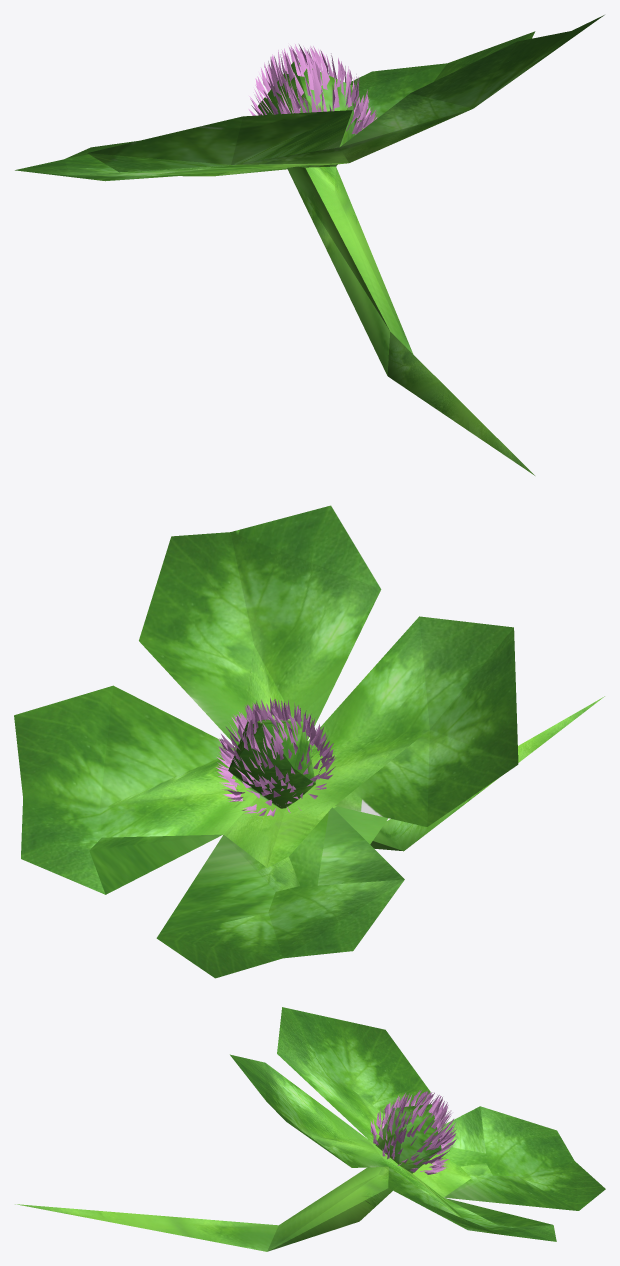
The model's file is Leaf Clovers.fbx.
3 renders of one model, top to bottom at view 1: azimuth 30°, elevation 25°; view 2: azimuth 150°, elevation 25°; view 3: azimuth 270°, elevation 25°, orthographic. The views are drawn at different scales.
Visible parts, largest first — view 1: 4LeafClover; view 2: 4LeafClover; view 3: 4LeafClover.
Part boxes in pixels (x1,y1,x2,y2): 4LeafClover: (15, 15, 604, 475); 4LeafClover: (14, 505, 604, 978); 4LeafClover: (15, 1007, 605, 1251).
Bounding box in the file's own units: 70.4 × 44.52 × 107.
